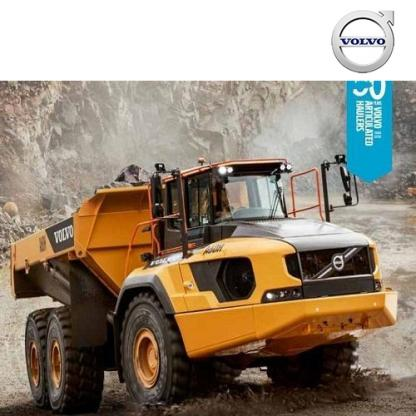dump_truck: (8, 154, 398, 404)
